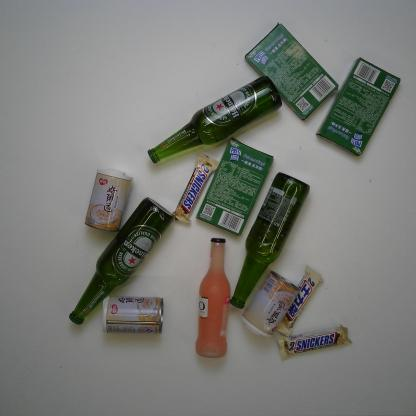Alcohol: (68, 195, 176, 332), (146, 74, 285, 169), (228, 172, 313, 311), (195, 236, 232, 360)
Canned Food: (240, 270, 301, 336), (83, 167, 134, 233), (101, 295, 165, 334)
Chocolate: (170, 152, 221, 224), (276, 263, 324, 336), (277, 324, 354, 360)
Dessert: (242, 19, 340, 123), (314, 56, 403, 158), (195, 135, 276, 235)
